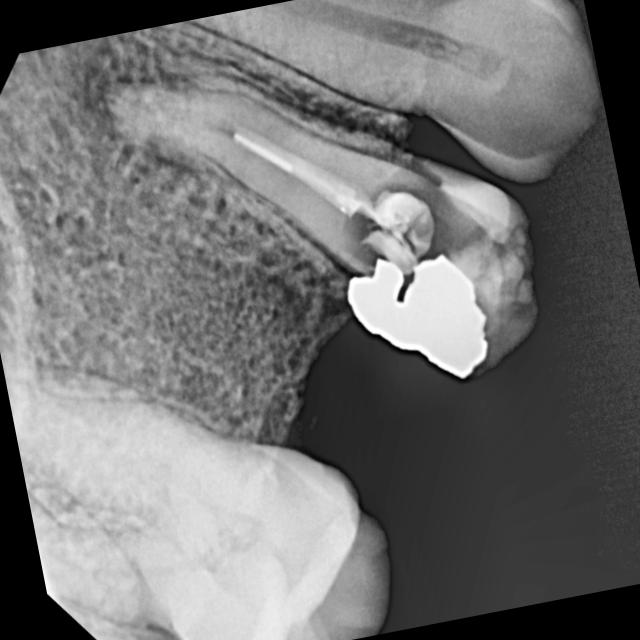RCT: (82, 62, 559, 465)
Restoration: (290, 130, 564, 411)
